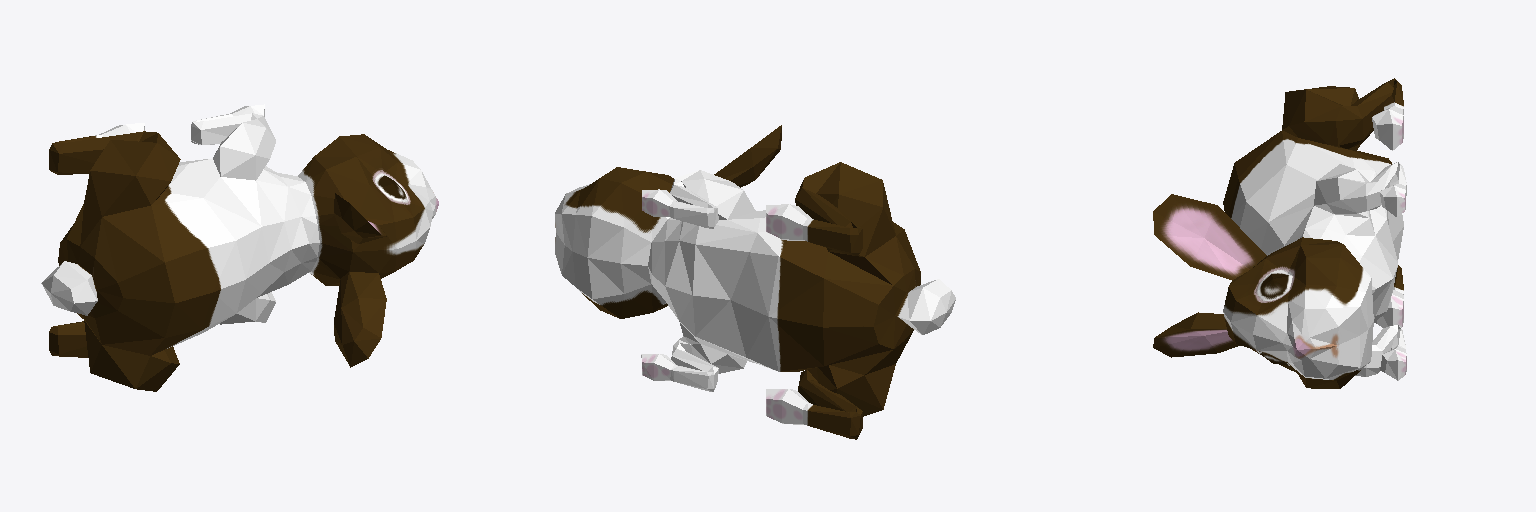
3 views of the same model, side by side, from view 1: azimuth 30°, elevation 25°; view 2: azimuth 150°, elevation 25°; view 3: azimuth 270°, elevation 25° (orthographic).
Parts seen in each view (by area): view 1: l_lower lower rabbit_group; view 2: l_lower lower rabbit_group; view 3: l_lower lower rabbit_group.
Part boxes in pixels (bbox=[...]): l_lower lower rabbit_group: bbox=[41, 104, 438, 391]; l_lower lower rabbit_group: bbox=[555, 125, 955, 439]; l_lower lower rabbit_group: bbox=[1153, 78, 1406, 388].
Size of the model in its own units: 42.19 by 26.16 by 24.14.
1 materials, 1 textured.